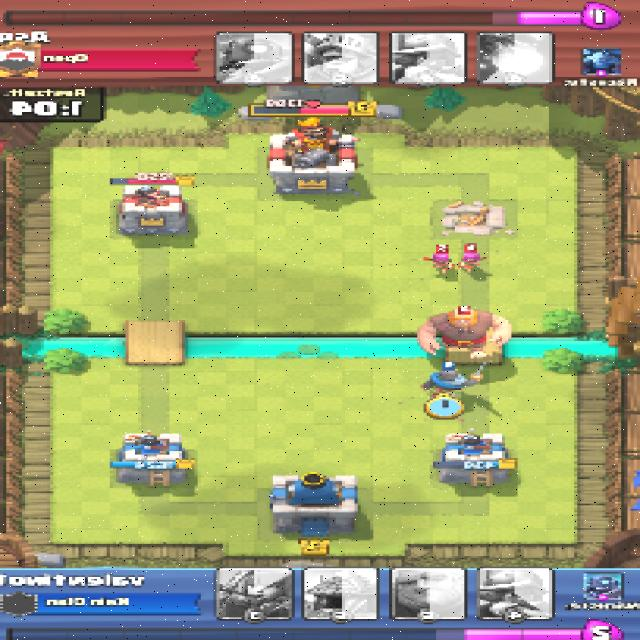Enemy-Archer: (429, 251, 456, 273), (456, 252, 485, 272)
Enemy-Giant: (415, 308, 511, 358)
Player-Knight: (422, 363, 484, 396)
